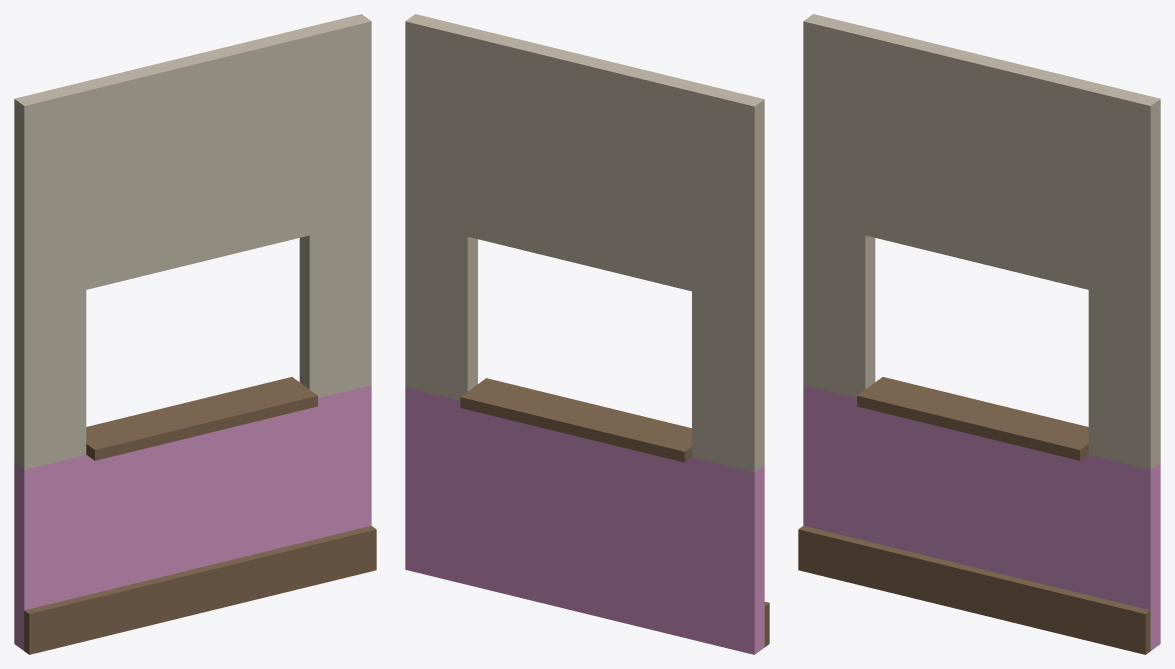
File: Mesh_WallBaseboard2Colors_H3.fbx
3 views of the same model, side by side, from view 1: azimuth 30°, elevation 25°; view 2: azimuth 150°, elevation 25°; view 3: azimuth 330°, elevation 25° (orthographic).
Visible parts, largest first — view 1: Mesh_WallBaseboard2Colors_H3; view 2: Mesh_WallBaseboard2Colors_H3; view 3: Mesh_WallBaseboard2Colors_H3.
Part boxes in pixels (x1,y1,x2,y2): Mesh_WallBaseboard2Colors_H3: (14,14,376,654); Mesh_WallBaseboard2Colors_H3: (405,14,769,654); Mesh_WallBaseboard2Colors_H3: (798,14,1160,654).
Size of the model in its own units: 2 by 3 by 0.2574.
